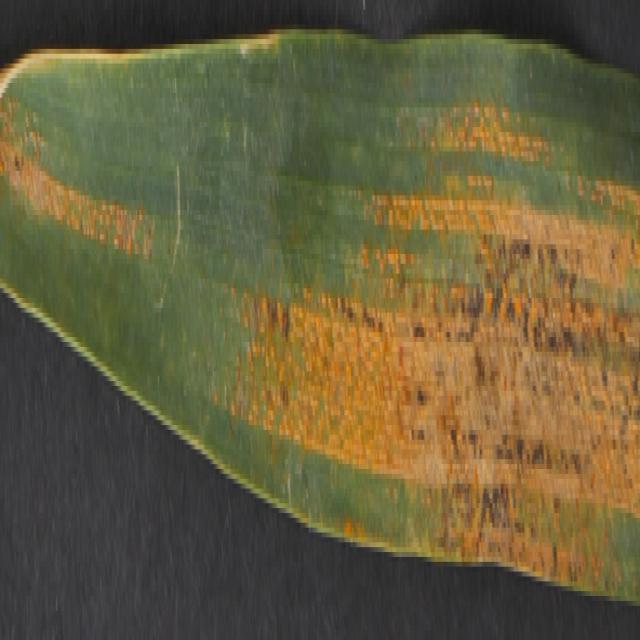leaf rust: (234, 93, 639, 591), (1, 74, 155, 328)
